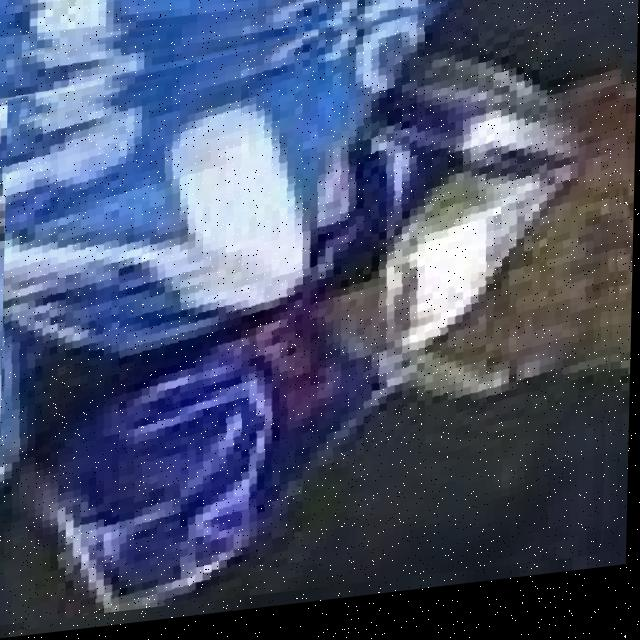can: (1, 5, 625, 616)
